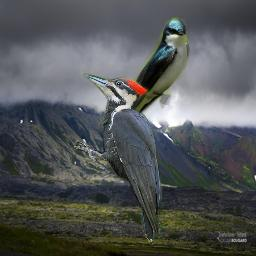Swallow: (108, 17, 190, 142)
Woodpecker: (74, 73, 168, 245)
